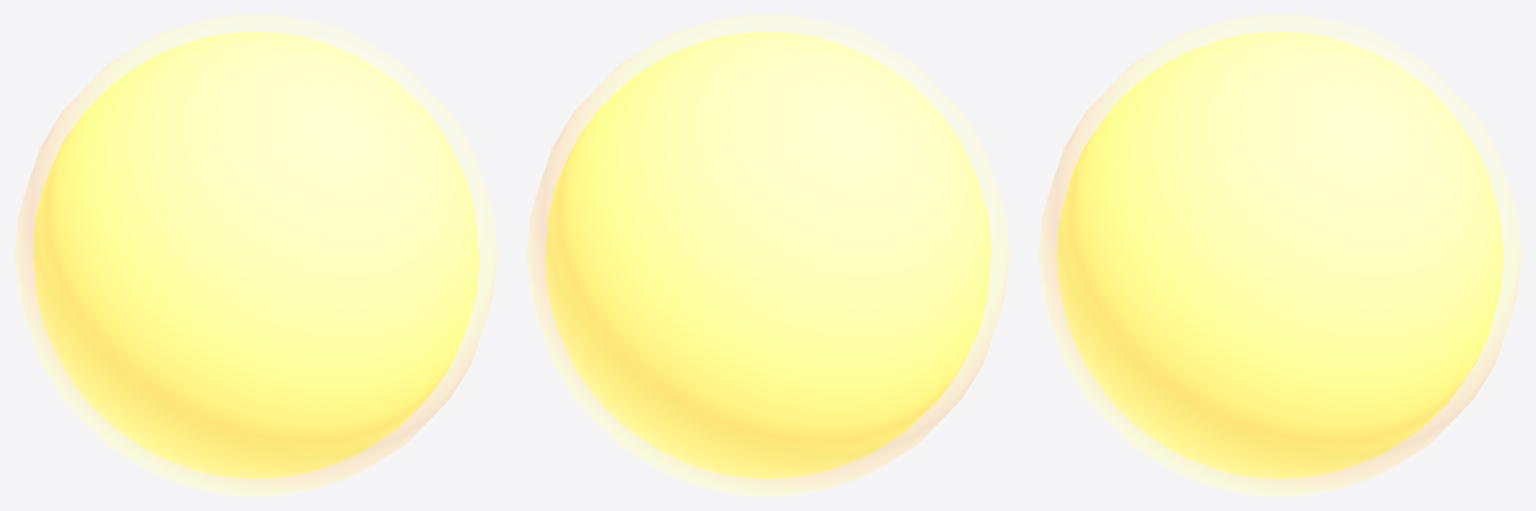
Rendered from sun.glb.
3 views of the same model, side by side, from view 1: azimuth 30°, elevation 25°; view 2: azimuth 150°, elevation 25°; view 3: azimuth 270°, elevation 25° (orthographic).
Parts seen in each view (by area): view 1: sun; view 2: sun; view 3: sun.
Boxes of the visible parts, <box> form: sun: <box>14,14,497,496</box>; sun: <box>526,14,1009,496</box>; sun: <box>1038,14,1521,496</box>.
Bounding box in the file's own units: 2.16 × 2.16 × 2.16.
